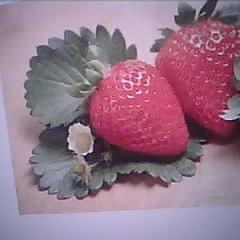straw-ripe: (156, 20, 240, 136), (90, 59, 188, 158)
